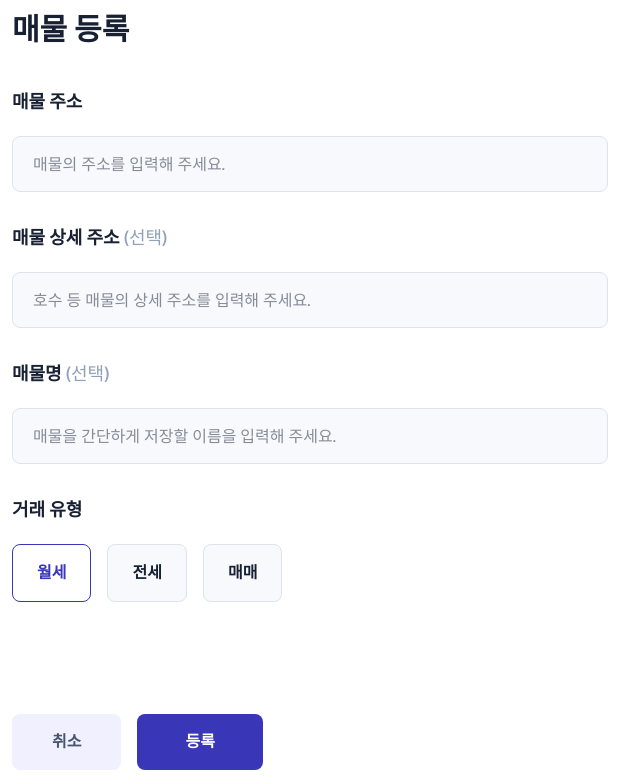
Test case: PropertyForm save error handling › 등록 실패 응답의 fieldErrors를 각 입력 필드 아래에 표시한다
Type "LLLO" into the field with placeholder "매물의 주소를 입력해 주세요." at (310, 164), box x1=12 y1=136 x2=608 y2=192
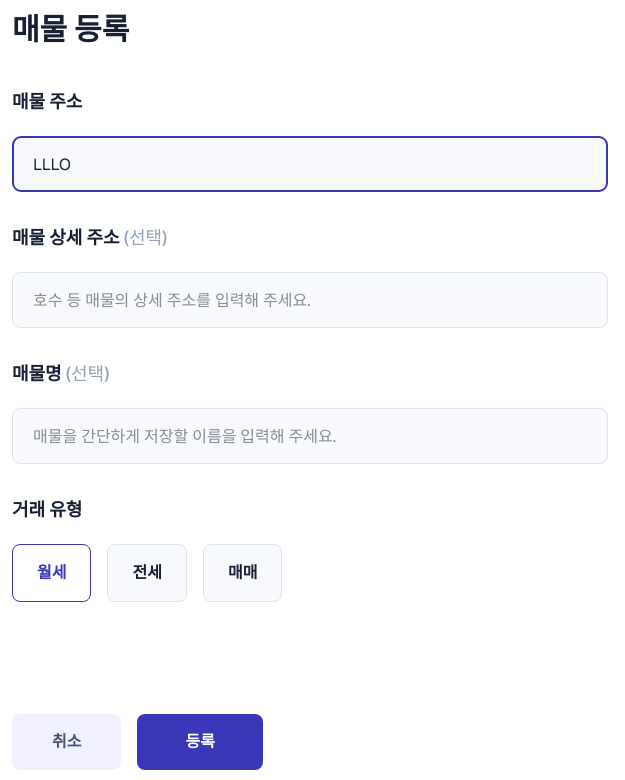
Click the button "등록" at (200, 742), box x1=138 y1=714 x2=263 y2=770
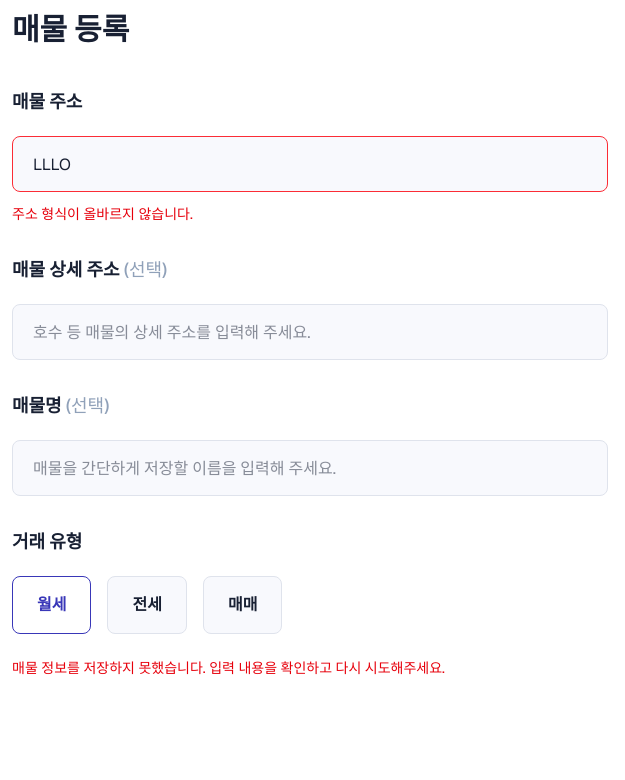
Check: the text "주소 형식이 올바르지 않습니다." is shown, box x1=12 y1=205 x2=193 y2=223
